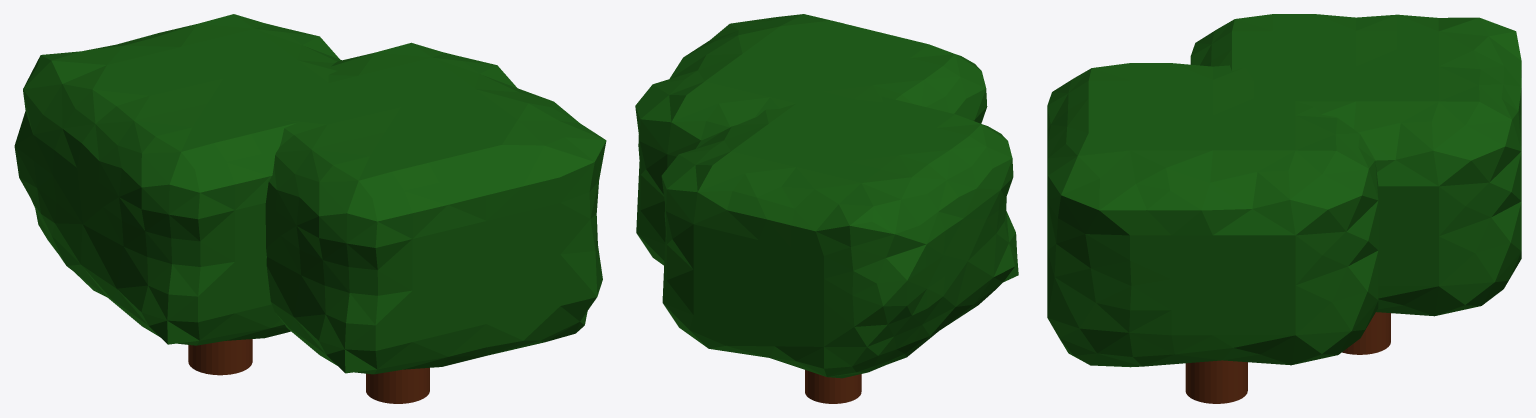
File: Bushes Medium.fbx
3 views of the same model, side by side, from view 1: azimuth 30°, elevation 25°; view 2: azimuth 150°, elevation 25°; view 3: azimuth 270°, elevation 25° (orthographic). The views are drawn at different scales.
Visible parts, largest first — view 1: Cylinder.039; view 2: Cylinder.039; view 3: Cylinder.039.
Part boxes in pixels (x1,y1,x2,y2): Cylinder.039: (14, 14, 606, 403); Cylinder.039: (635, 14, 1018, 403); Cylinder.039: (1047, 14, 1521, 403).
Bounding box in the file's own units: 736 × 502 × 780.
